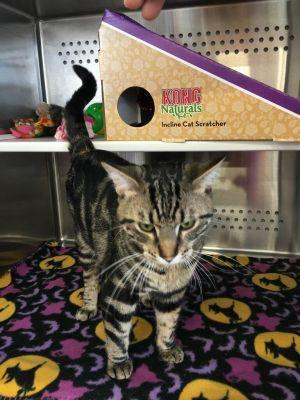bengal: (95, 149, 228, 277)
